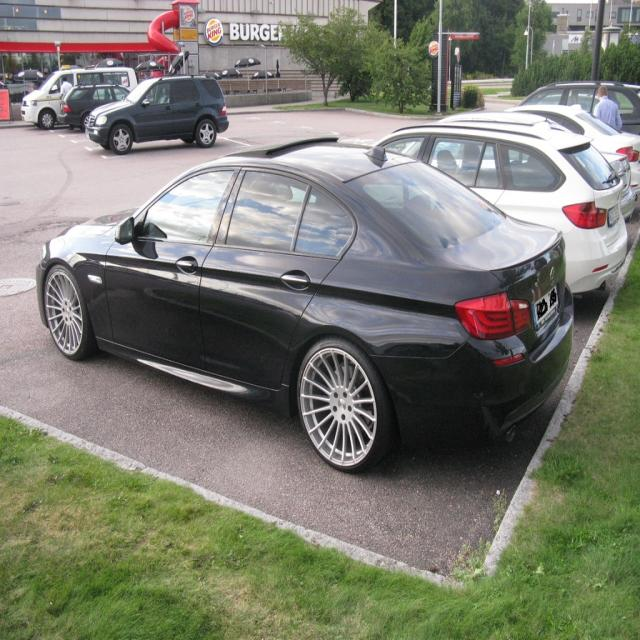car: (83, 73, 229, 155)
